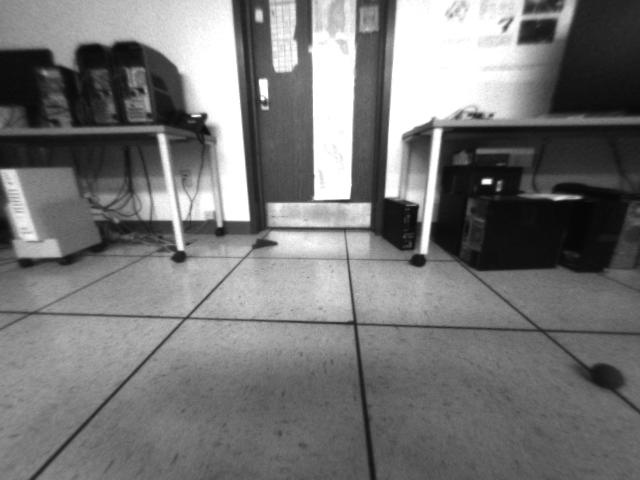dogtoy: (580, 351, 631, 395)
